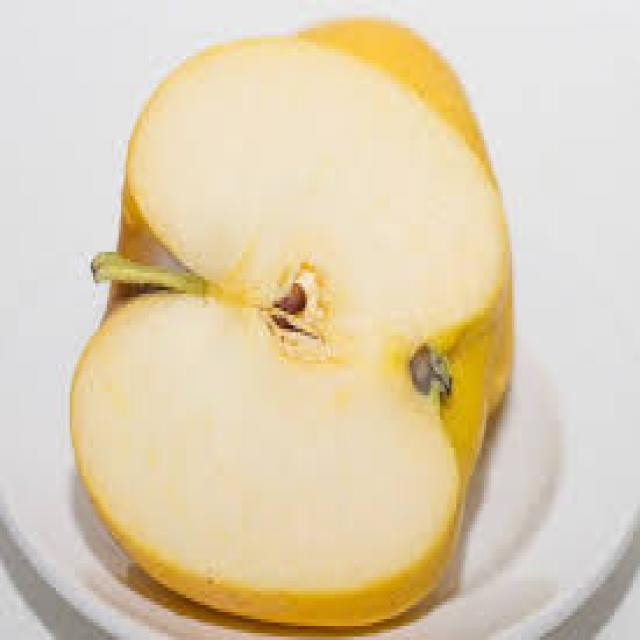Apple: (72, 16, 514, 618)
